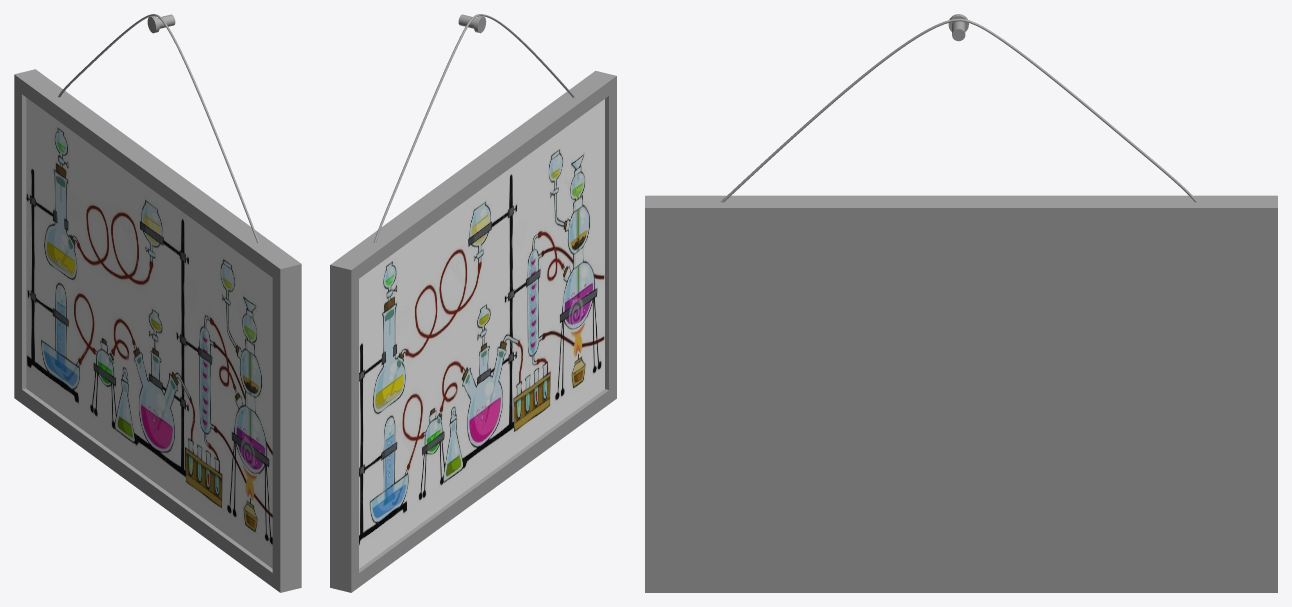
File: cerceve_model1.fbx
The picture shows the model from 3 angles, left to right: view 1: azimuth 30°, elevation 25°; view 2: azimuth 150°, elevation 25°; view 3: azimuth 270°, elevation 25°; orthographic projection. The views are drawn at different scales.
Parts seen in each view (by area): view 1: cerceve_govde, cerceve_ip; view 2: cerceve_govde, cerceve_ip; view 3: cerceve_govde, cerceve_ip.
Part boxes in pixels (box(x1,y1,x2,y2)): cerceve_govde: box(14, 69, 301, 592); cerceve_ip: box(58, 14, 259, 243); cerceve_govde: box(330, 70, 616, 592); cerceve_ip: box(373, 14, 574, 242); cerceve_govde: box(645, 195, 1277, 592); cerceve_ip: box(721, 18, 1197, 202).
Size of the model in its own units: 0.6845 by 13.04 by 13.16.
